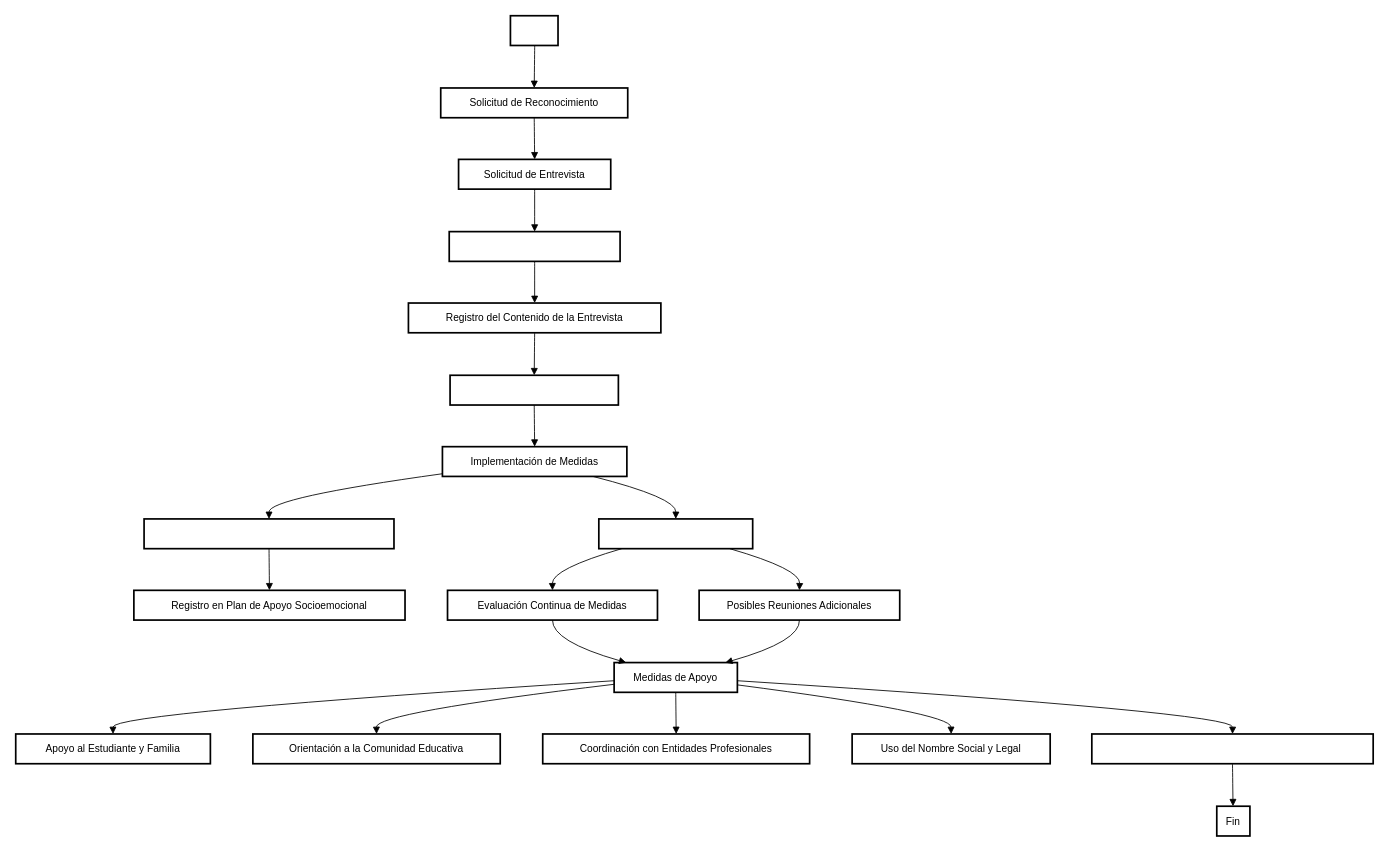
Image size: 1388x851. Some labels were removed from this diagram. Here are the shapes that lost their labels. From the top down, the centre of each, then its label:
(x=533, y=30): Inicio
(x=534, y=246): Entrevista con el Director
(x=534, y=389): Firma de Todas las Partes
(x=268, y=533): Adopción de Medidas Básicas de Apoyo
(x=675, y=533): Revisión y Seguimiento
(x=1232, y=748): Presentación Personal y Servicios Higiénicos
